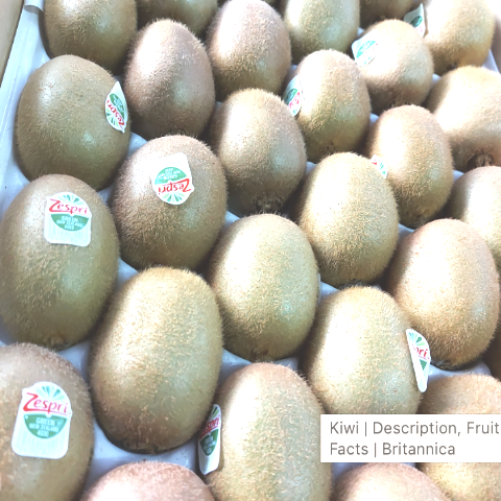kiwi: (76, 246, 235, 457), (299, 271, 434, 441), (2, 166, 128, 343), (185, 349, 332, 500), (384, 208, 501, 389), (292, 140, 404, 294), (113, 8, 222, 158), (122, 129, 226, 275), (356, 97, 455, 230), (278, 46, 380, 163), (215, 76, 311, 194)
